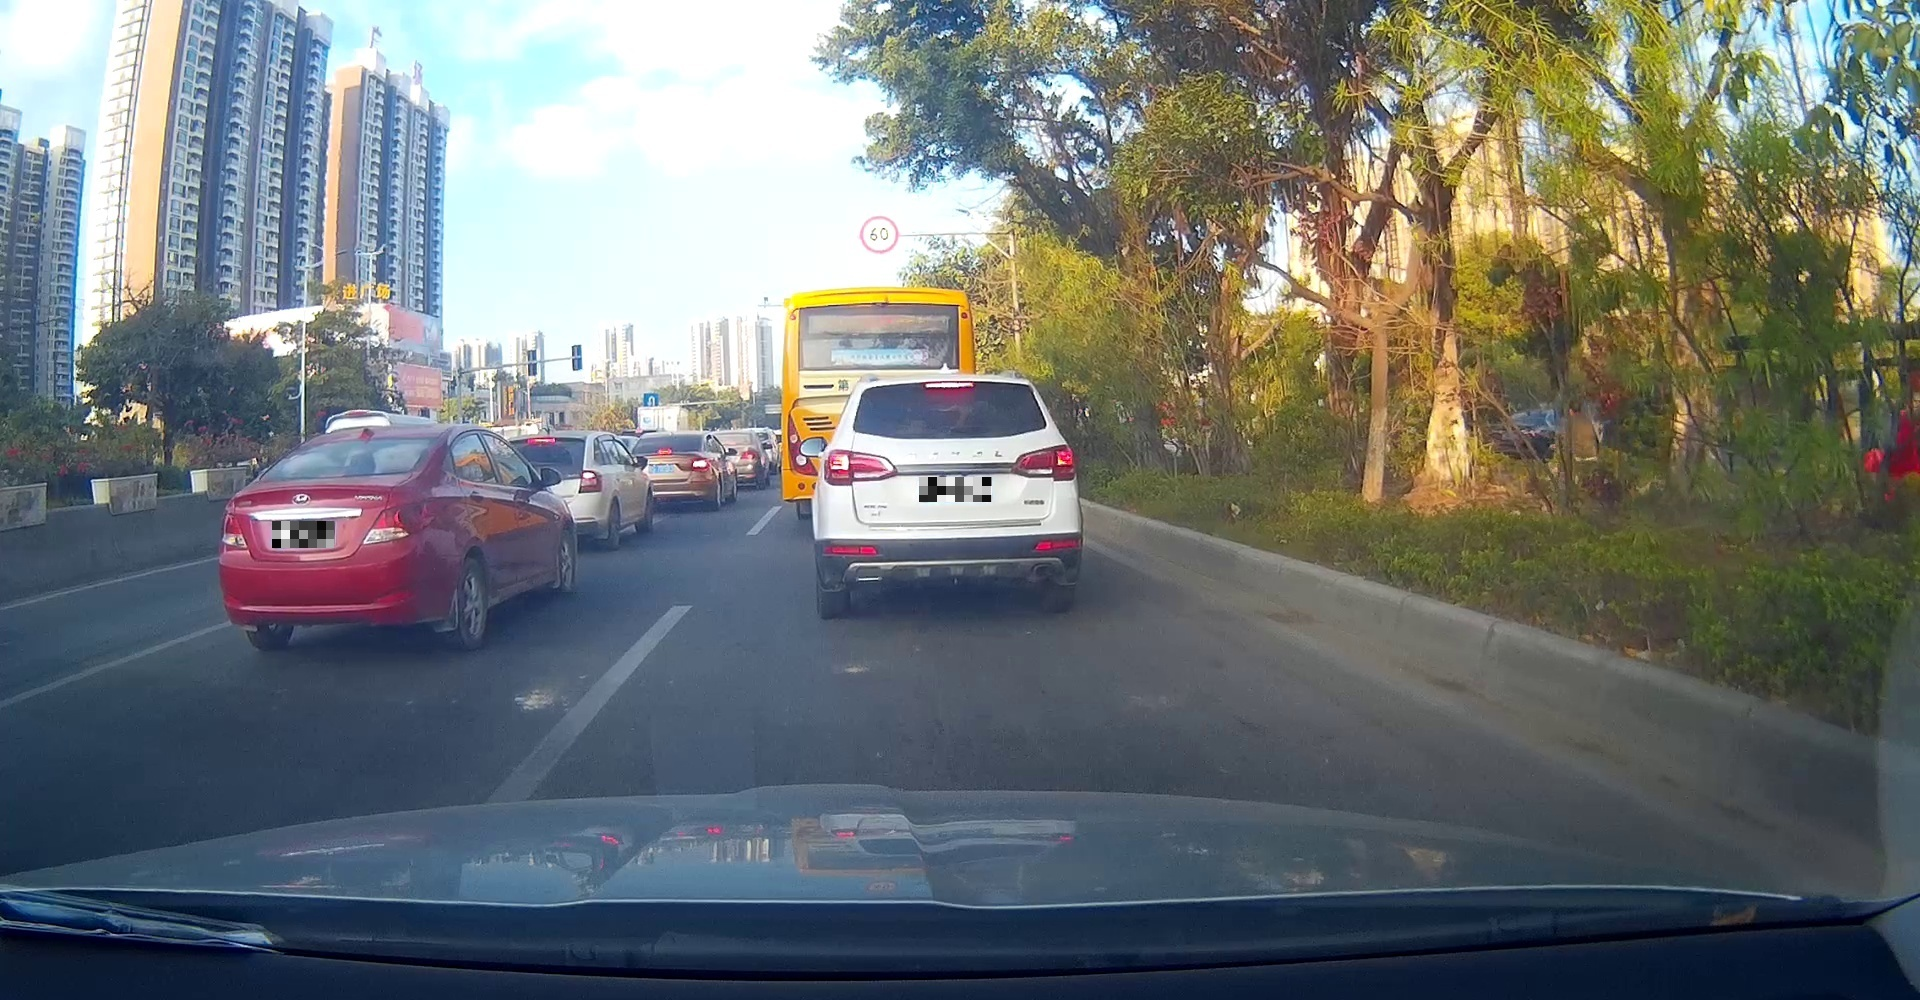L_light: (822, 448, 897, 485), (216, 510, 248, 555)
R_light: (359, 495, 441, 544), (1012, 444, 1076, 481)
T_light: (343, 434, 380, 448), (923, 381, 974, 390)
day-brake: (811, 376, 1082, 618)
day-no: (215, 426, 451, 650)
plate_1: (272, 522, 334, 548)
plate_2: (919, 477, 992, 503)
